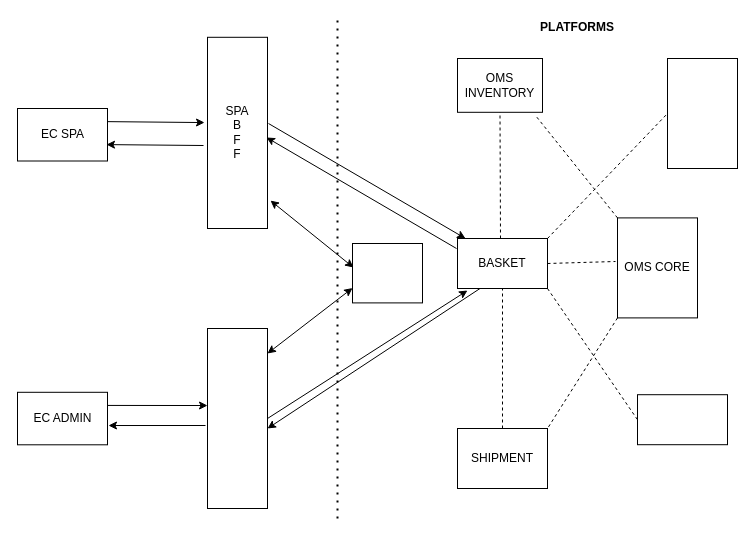
This 755x538 diagram has some shape labels left out. Each missing label, with the centre of its shape:
ADMIN B F F: the point at 237,418
CATALOG: the point at 387,272
PAYMENT GW: the point at 682,419
PRICE BPS, TCS, PDC,,,,: the point at 702,113
